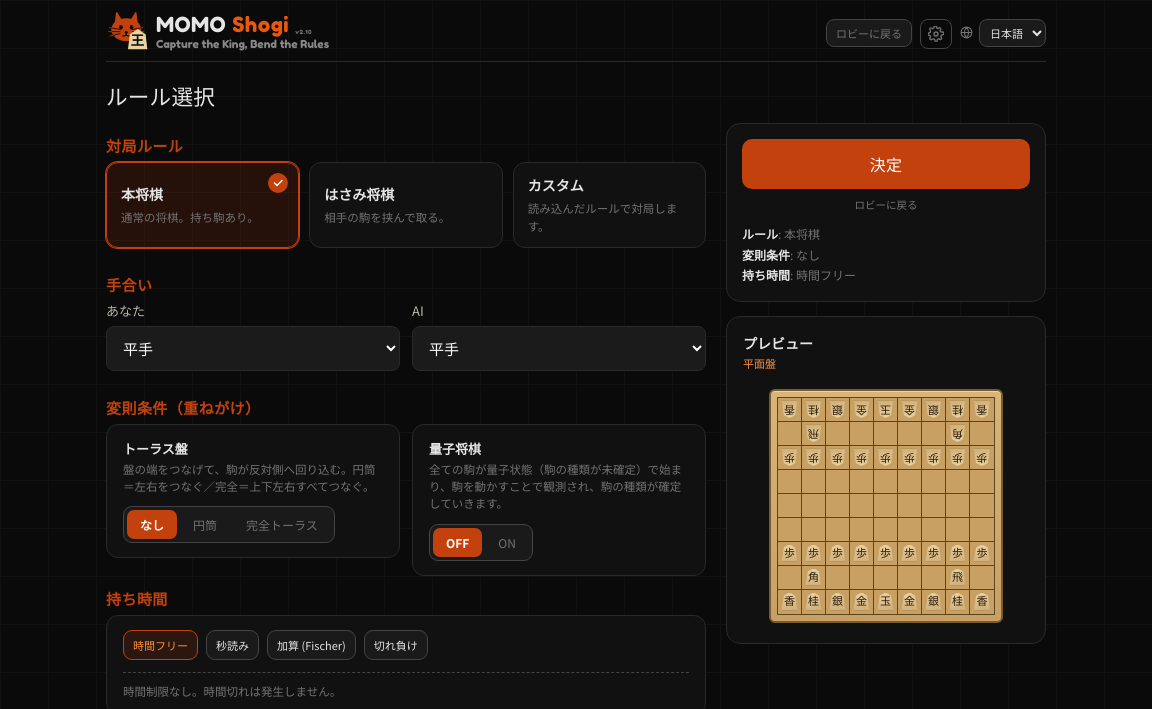
it: S02 手合い (駒落ち) › 駒落ちを選ぶと「落とした側が先手」と出る
This screenshot has width=1152, height=709.
Expected: the text "駒を落とした側が先手になります" is not shown
Select "二枚落ち" in the dropdown labelled "AI" at [559, 348], box [412,326,706,371]
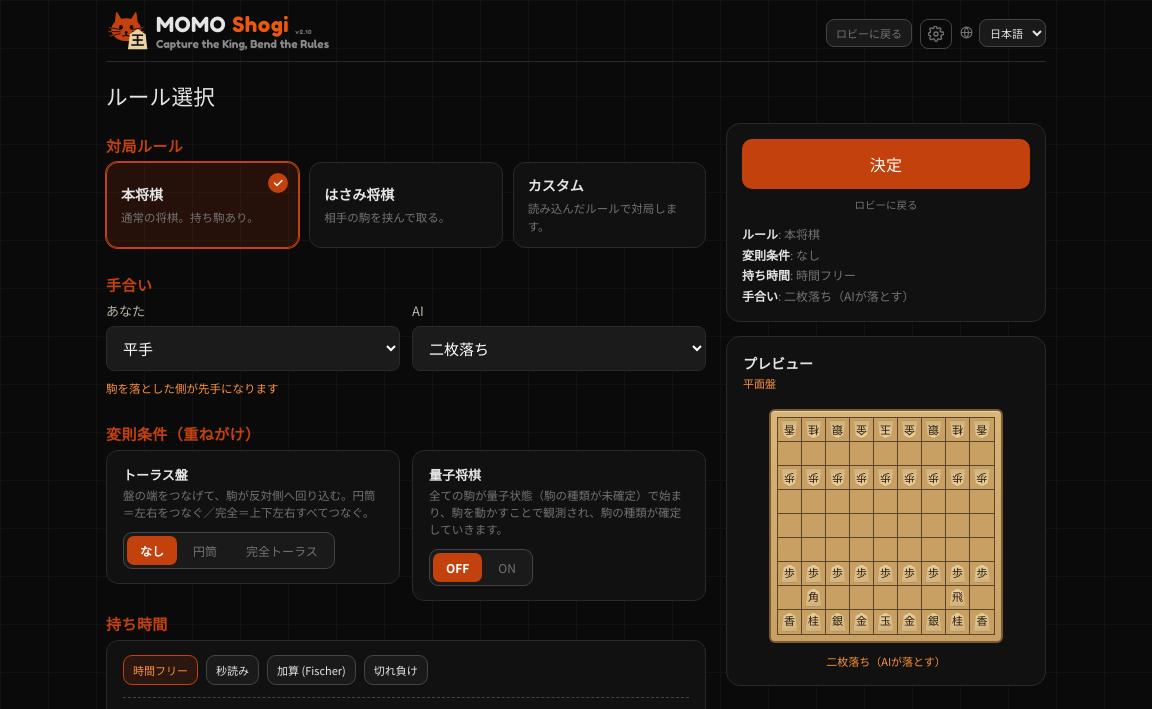
Expected: the text "駒を落とした側が先手になります" is shown, [106,380,278,396]
